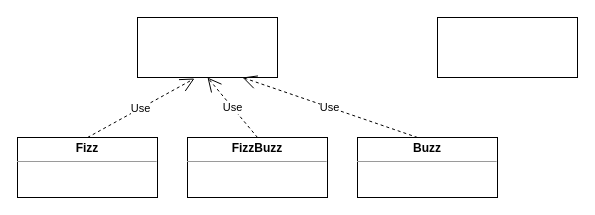
Image size: 595x215. Some labels were removed from this diagram. Each missing label, with the centre of its shape:
<<Interface>> IDivisible: [207,47]
FizzBuzzTool: [507,47]
